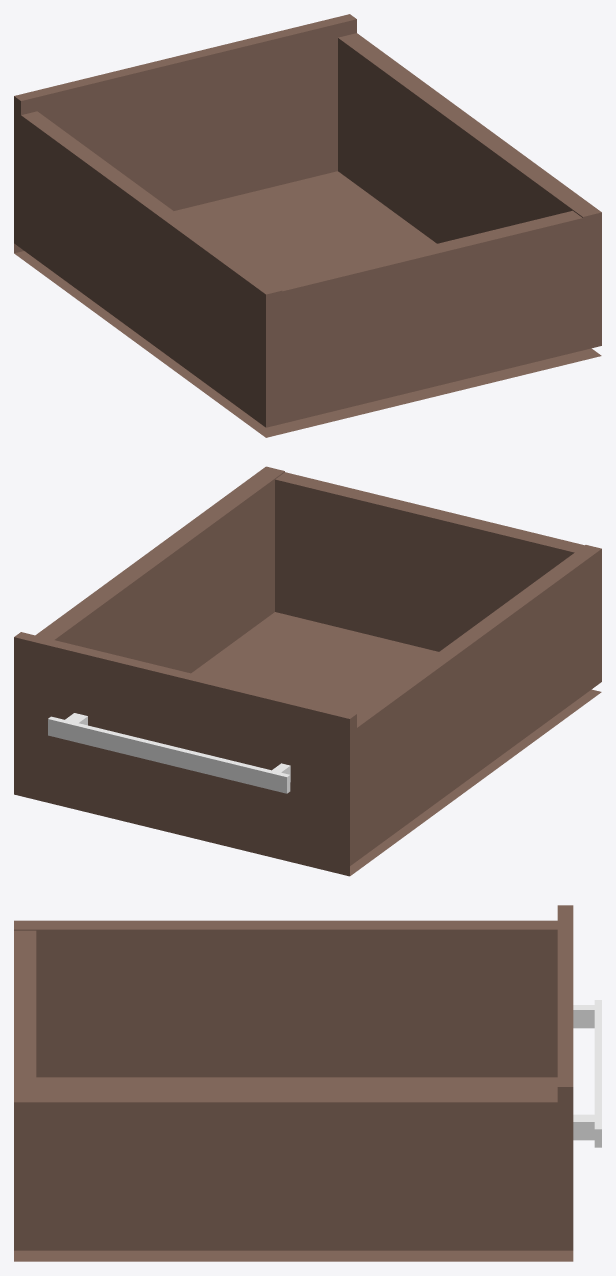
The model's file is cabinet_wood_drawer.glb.
3 renders of one model, top to bottom at view 1: azimuth 30°, elevation 25°; view 2: azimuth 150°, elevation 25°; view 3: azimuth 270°, elevation 25°, orthographic. The views are drawn at different scales.
Parts seen in each view (by area): view 1: ABA GAVETA; view 2: ABA GAVETA; view 3: ABA GAVETA.
Boxes of the visible parts, x1=… form: ABA GAVETA: x1=14, y1=14, x2=601, y2=437; ABA GAVETA: x1=14, y1=466, x2=601, y2=876; ABA GAVETA: x1=14, y1=905, x2=601, y2=1261.
Size of the model in its own units: 1.83 by 0.8213 by 2.51.
